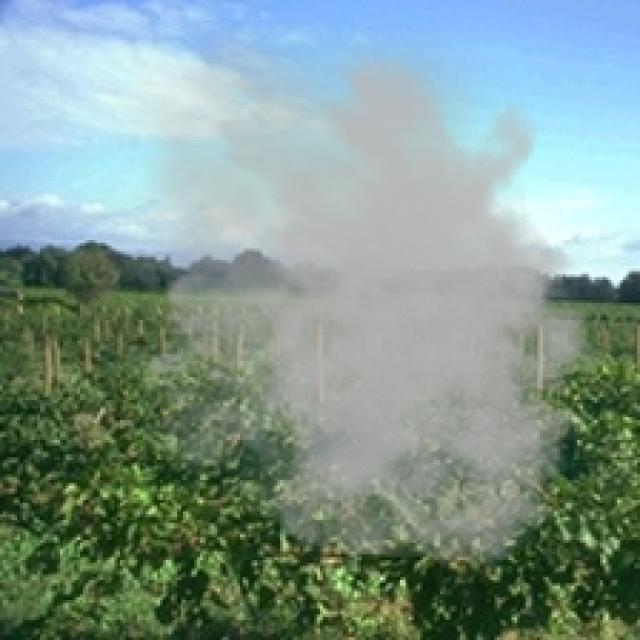smoke: (80, 6, 626, 568)
